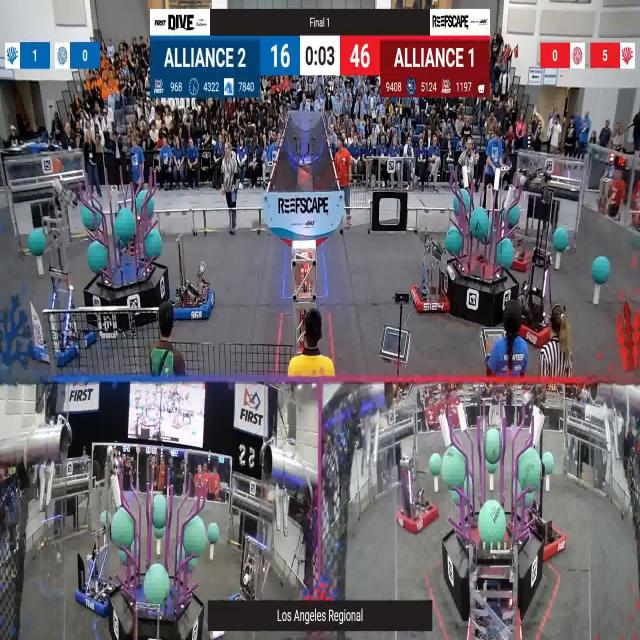scoreboard: (150, 35, 490, 96)
